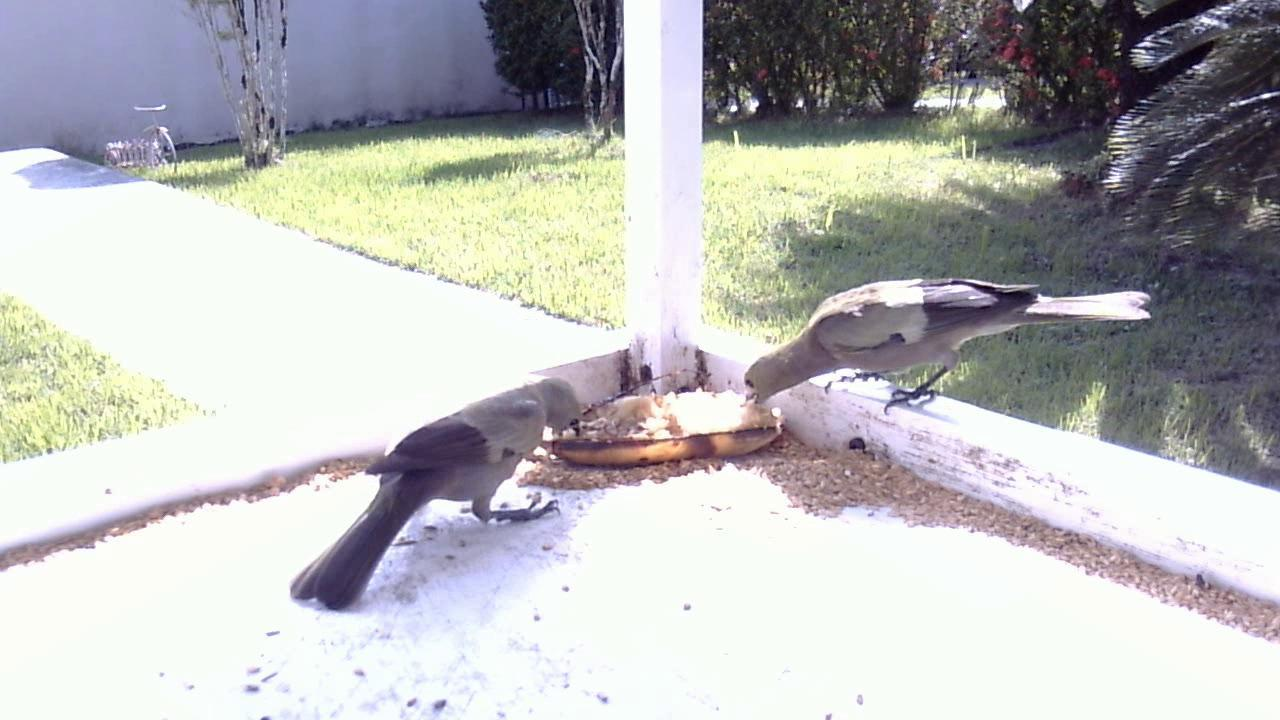sanhaco_do_coqueiro: (283, 357, 600, 614), (744, 263, 1153, 449)
